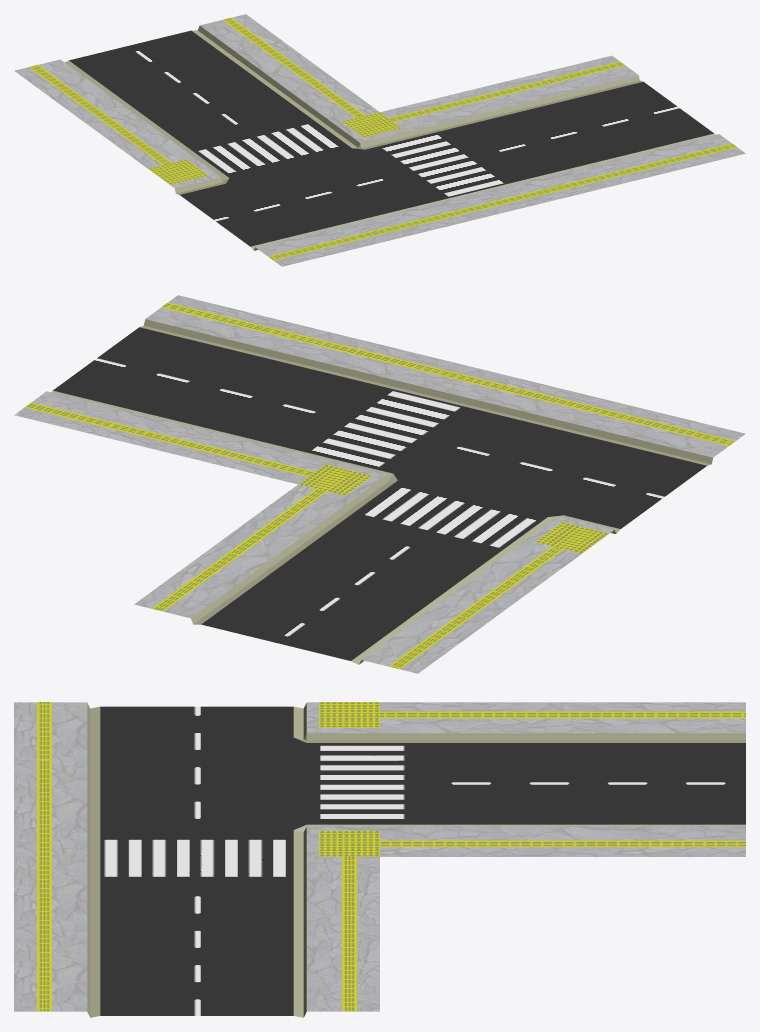
Rendered from RuaCurva.fbx.
3 renders of one model, top to bottom at view 1: azimuth 30°, elevation 25°; view 2: azimuth 150°, elevation 25°; view 3: azimuth 270°, elevation 25°, orthographic. The views are drawn at different scales.
Visible parts, largest first — view 1: Rua curva2; view 2: Rua curva2; view 3: Rua curva2.
Boxes of the visible parts, box(x1,y1,x2,y2) form: Rua curva2: box(14, 14, 745, 266); Rua curva2: box(14, 295, 745, 673); Rua curva2: box(14, 702, 745, 1017).
Size of the model in its own units: 2400 by 2400 by 23.37.
Materials: 1 (1 with a texture image).
